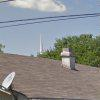Chimney: (53, 36, 79, 76)
